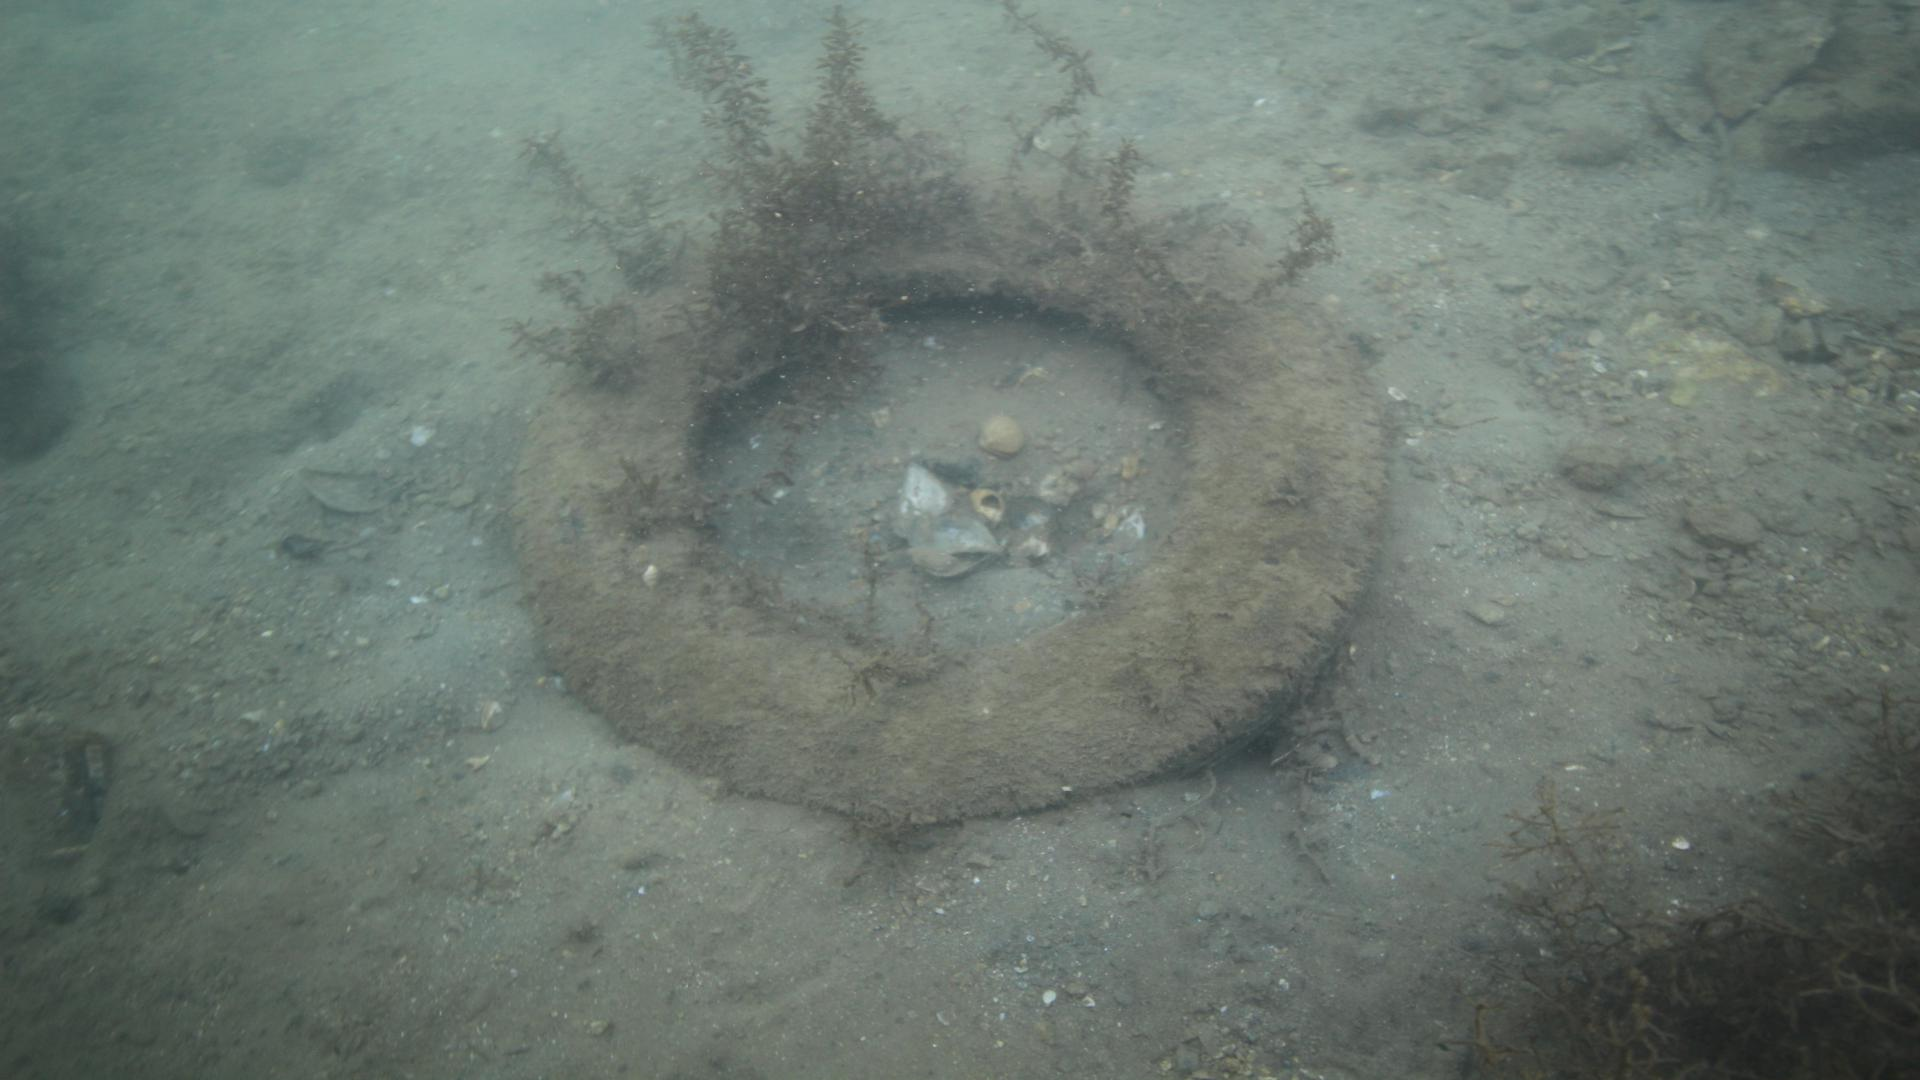tire: (506, 162, 1393, 843)
